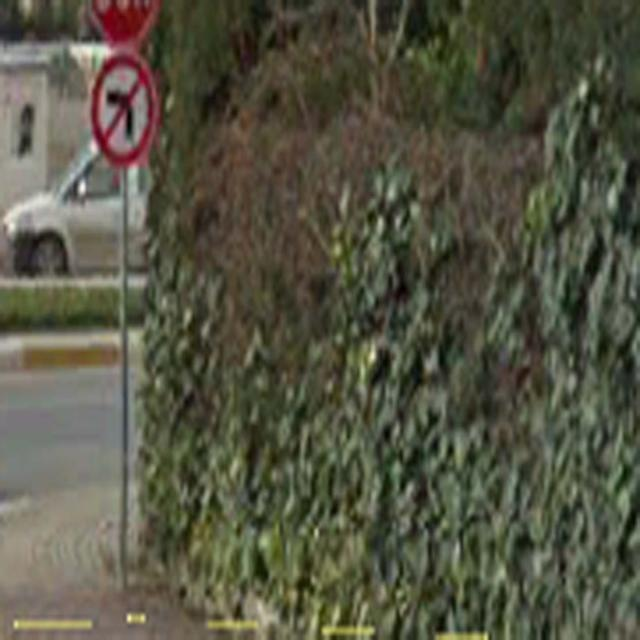soladonulmez: (90, 53, 156, 167)
